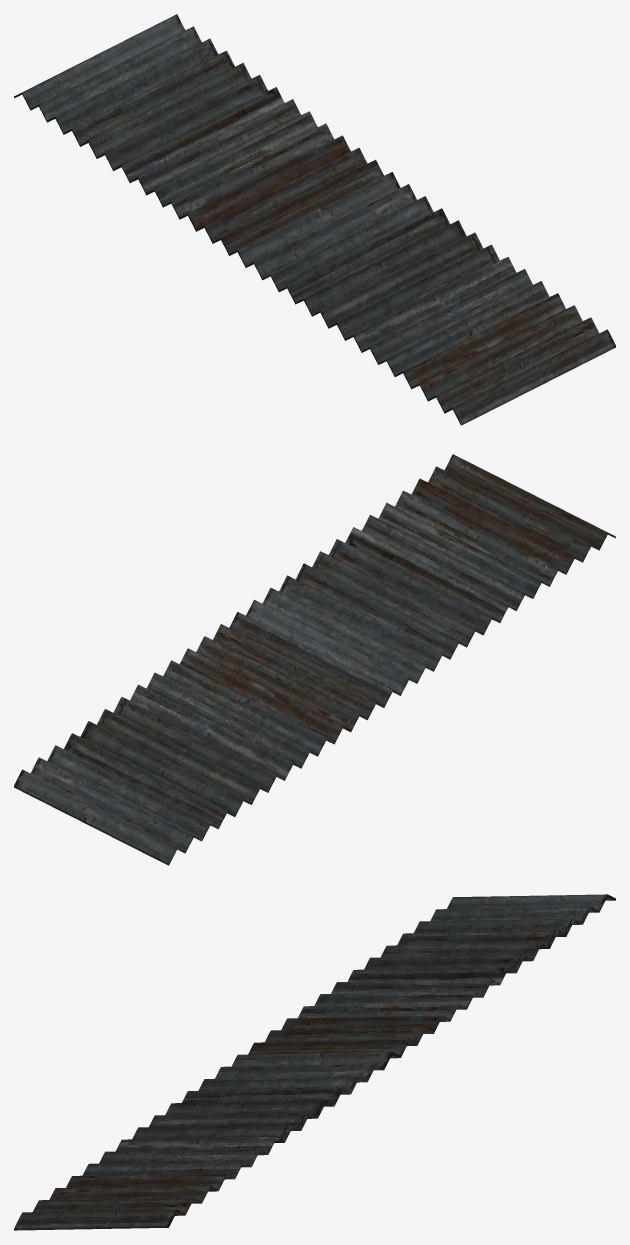
The model's file is roof_hr_3_side_1_angle.glb.
3 views of the same model, one above another, from view 1: azimuth 30°, elevation 25°; view 2: azimuth 150°, elevation 25°; view 3: azimuth 330°, elevation 25° (orthographic).
Visible parts, largest first — view 1: roof_hr_3_side_1_angle; view 2: roof_hr_3_side_1_angle; view 3: roof_hr_3_side_1_angle.
Boxes of the visible parts, left/top/right/bottom form: roof_hr_3_side_1_angle: left=14, top=14, right=615, bottom=425; roof_hr_3_side_1_angle: left=14, top=454, right=615, bottom=865; roof_hr_3_side_1_angle: left=14, top=894, right=615, bottom=1230.
Size of the model in its own units: 0.8 by 0.26 by 4.
Materials: 1 (1 with a texture image).
